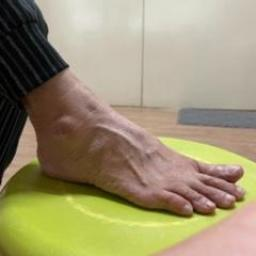Lateral View -Right Foot-: (8, 66, 252, 238)
